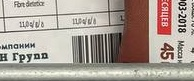1d: (71, 32, 122, 63)
